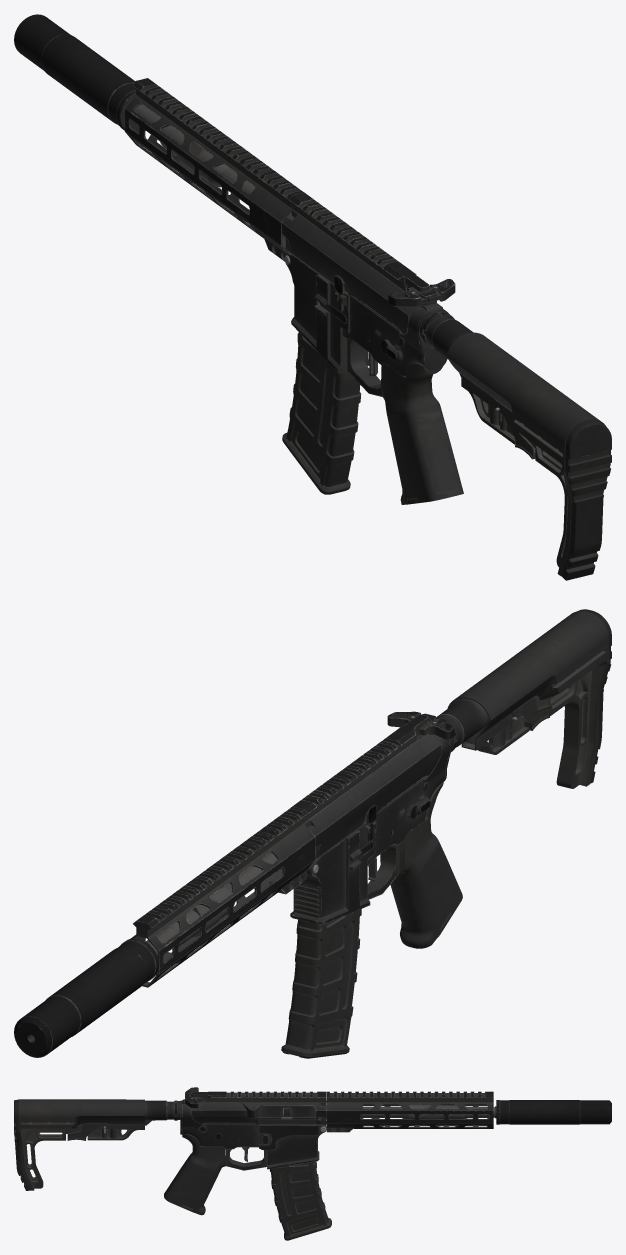
3 renders of one model, top to bottom at view 1: azimuth 30°, elevation 25°; view 2: azimuth 150°, elevation 25°; view 3: azimuth 270°, elevation 25°, orthographic. The views are drawn at different scales.
Visible parts, largest first — view 1: Rail_low, Stock_low, M4_Bottom_low, Upper_low, mag_low, Grip_low, suppressor_low, Buttpad_low, barrel_low, Buffer_tube_low, charging_low; view 2: Stock_low, Rail_low, M4_Bottom_low, mag_low, Upper_low, suppressor_low, Grip_low, Buffer_tube_low, barrel_low, charging_low, stock_lever_low, Buttpad_low; view 3: Rail_low, Stock_low, M4_Bottom_low, Upper_low, mag_low, suppressor_low, Grip_low, dust_cover_low, barrel_low, Buffer_tube_low, Buttpad_low, stock_lever_low.
Part boxes in pixels (x1,y1,x2,y2): Rail_low: (124, 78, 303, 261); Stock_low: (446, 332, 605, 576); M4_Bottom_low: (284, 252, 448, 396); Upper_low: (281, 192, 442, 333); mag_low: (282, 332, 361, 494); Grip_low: (381, 363, 463, 504); suppressor_low: (14, 14, 145, 132); Buttpad_low: (561, 419, 611, 580); barrel_low: (134, 104, 291, 237); Buffer_tube_low: (424, 314, 473, 376); charging_low: (388, 279, 455, 307); Stock_low: (447, 611, 608, 788); Rail_low: (130, 806, 315, 987); M4_Bottom_low: (290, 735, 451, 924); mag_low: (281, 909, 361, 1058); Upper_low: (292, 714, 441, 874); suppressor_low: (14, 938, 158, 1057); Grip_low: (380, 782, 462, 948); Buffer_tube_low: (436, 698, 488, 747); barrel_low: (146, 852, 282, 956); charging_low: (387, 711, 454, 740); stock_lever_low: (511, 698, 550, 730); Buttpad_low: (577, 609, 611, 783); Rail_low: (327, 1091, 493, 1132); Stock_low: (18, 1099, 144, 1190); M4_Bottom_low: (180, 1099, 326, 1170); Upper_low: (191, 1091, 326, 1125); mag_low: (269, 1161, 331, 1240); suppressor_low: (495, 1100, 611, 1124); Grip_low: (164, 1133, 225, 1215); dust_cover_low: (258, 1105, 321, 1119); barrel_low: (326, 1104, 494, 1119); Buffer_tube_low: (145, 1100, 176, 1125); Buttpad_low: (14, 1099, 30, 1190); stock_lever_low: (67, 1123, 106, 1140).
Bounding box in the file's own units: 1.35 × 5.49 × 20.56.
2 materials, 2 textured.
